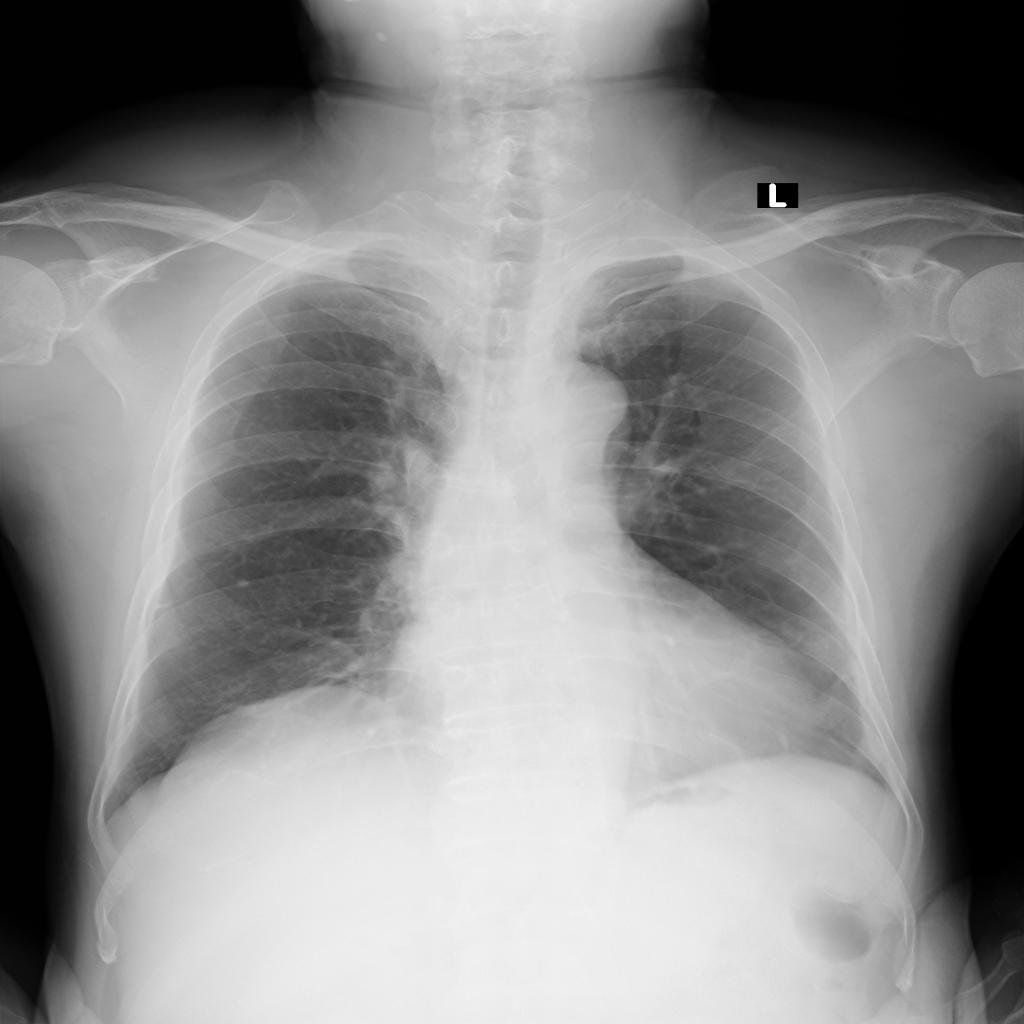Nodule: (239, 577, 249, 590)
